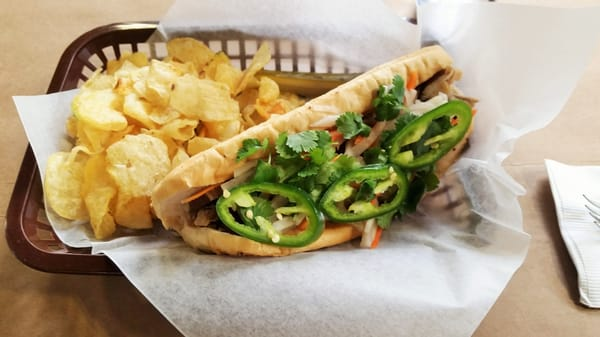soup: (150, 44, 483, 258)
